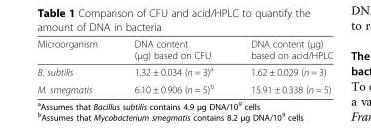table: (36, 36, 332, 94)
table column: (115, 36, 231, 94), (231, 36, 332, 94), (36, 36, 115, 94)
table column header: (36, 36, 332, 62)
table row: (36, 36, 332, 62), (36, 62, 332, 79), (36, 79, 332, 94)
